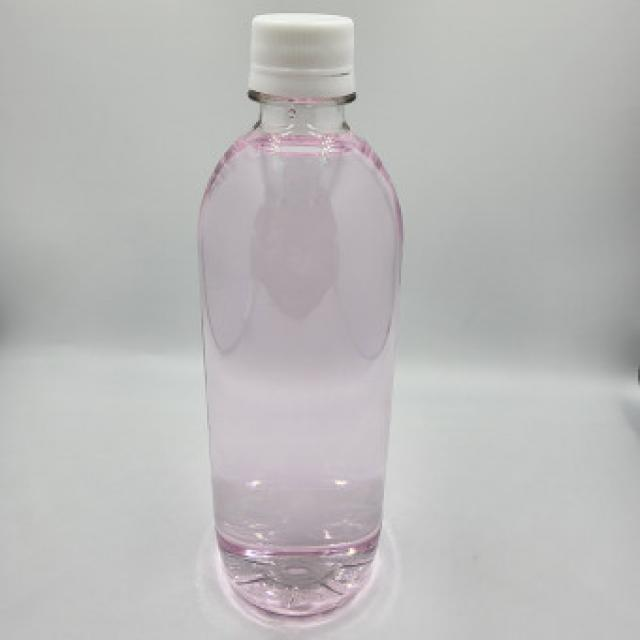plastic bottle: (194, 15, 405, 610)
